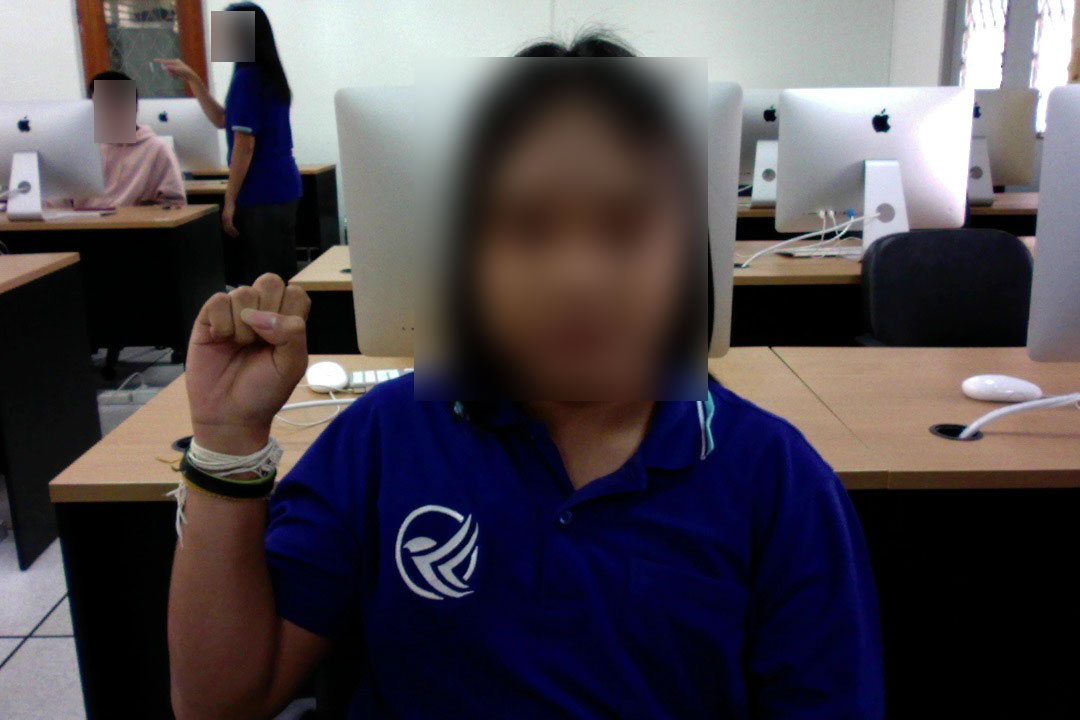sor: (180, 267, 319, 438)
